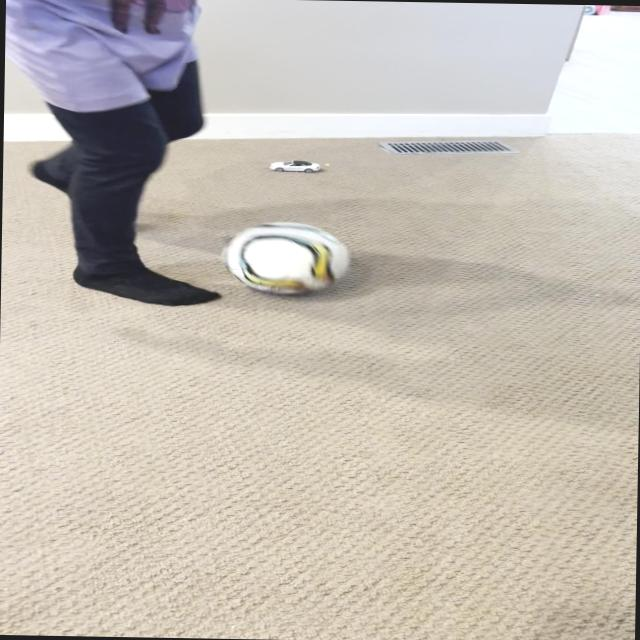Soccer Ball: (222, 219, 348, 296)
